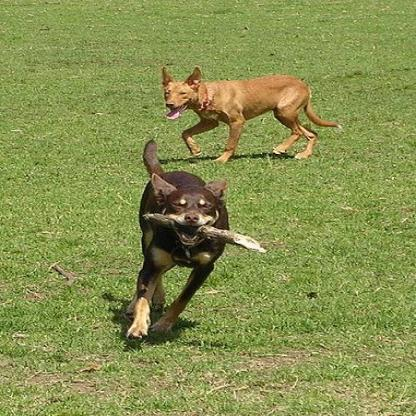kelpie: (124, 138, 230, 343), (154, 66, 342, 162)
